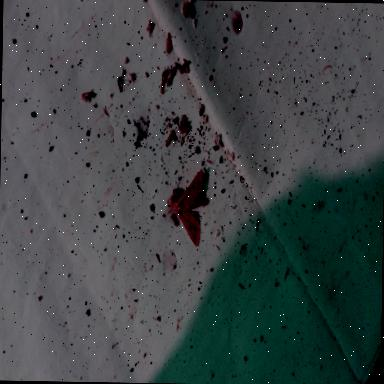abw: (164, 168, 204, 248)
